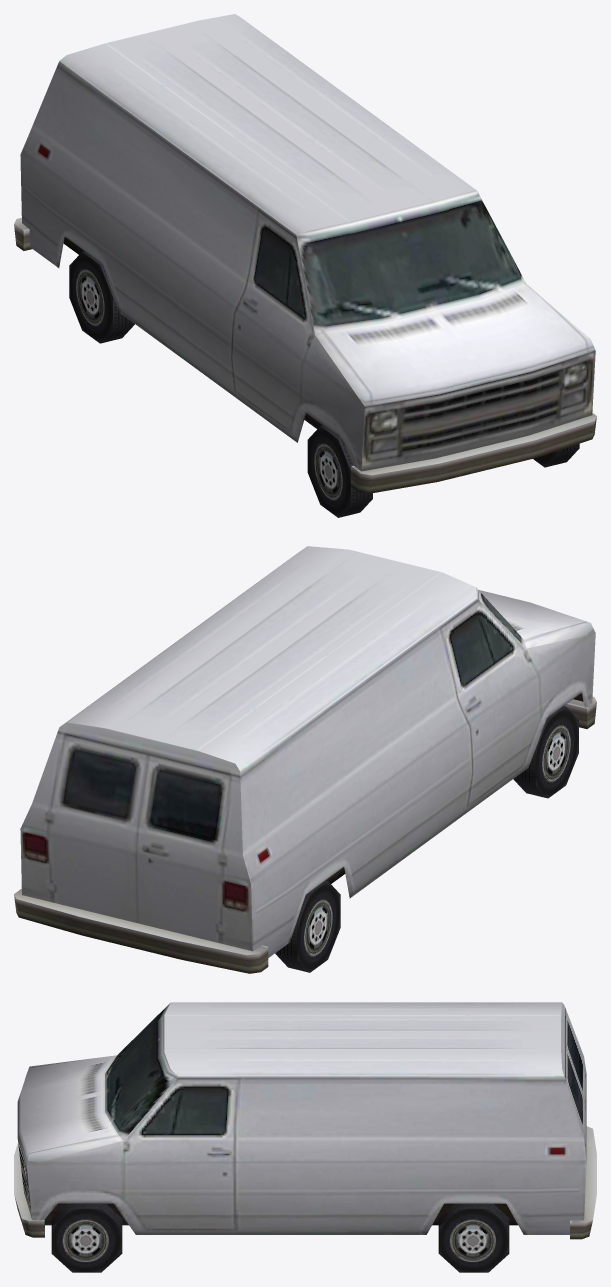
Rendered from Car_ChevyVan.fbx.
The picture shows the model from 3 angles, top to bottom: view 1: azimuth 30°, elevation 25°; view 2: azimuth 150°, elevation 25°; view 3: azimuth 270°, elevation 25°; orthographic projection. The views are drawn at different scales.
Parts seen in each view (by area): view 1: Car_ChevyVan; view 2: Car_ChevyVan; view 3: Car_ChevyVan.
Part boxes in pixels (x1,y1,x2,y2): Car_ChevyVan: (14, 14, 596, 517); Car_ChevyVan: (14, 546, 596, 973); Car_ChevyVan: (14, 1002, 596, 1272).
Bounding box in the file's own units: 2.05 × 1.91 × 5.2.
